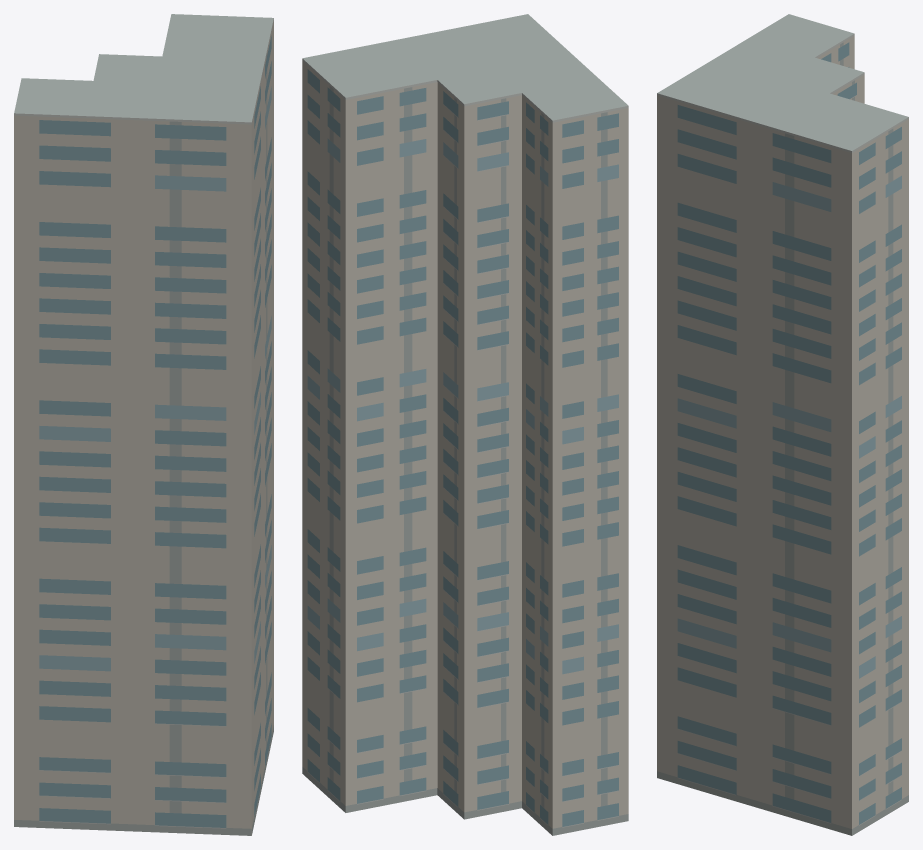
File: residential-2541ff4f-21d3-4ea5-8250-7d0950910d90.glb
The picture shows the model from 3 angles, left to right: view 1: azimuth 30°, elevation 25°; view 2: azimuth 150°, elevation 25°; view 3: azimuth 270°, elevation 25°; orthographic projection. The views are drawn at different scales.
Visible parts, largest first — view 1: residential-2541ff4f-21d3-4ea5-8250-7d0950910d90.tmp; view 2: residential-2541ff4f-21d3-4ea5-8250-7d0950910d90.tmp; view 3: residential-2541ff4f-21d3-4ea5-8250-7d0950910d90.tmp.
Part boxes in pixels (x1,y1,x2,y2): residential-2541ff4f-21d3-4ea5-8250-7d0950910d90.tmp: [14, 14, 273, 835]; residential-2541ff4f-21d3-4ea5-8250-7d0950910d90.tmp: [302, 14, 628, 835]; residential-2541ff4f-21d3-4ea5-8250-7d0950910d90.tmp: [657, 14, 908, 835].
Size of the model in its own units: 33.93 by 79 by 26.34.
